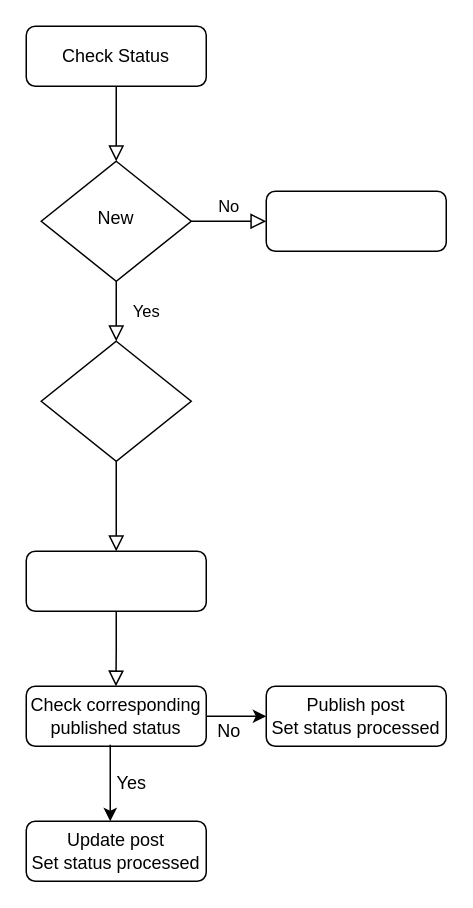
This 473x908 diagram has some shape labels left out. Each missing label, with the centre of its shape:
Check corresponding subject code: the point at 115,400
Dont do anything: the point at 355,220
Find corresponding code in Unique subject code: the point at 115,580
